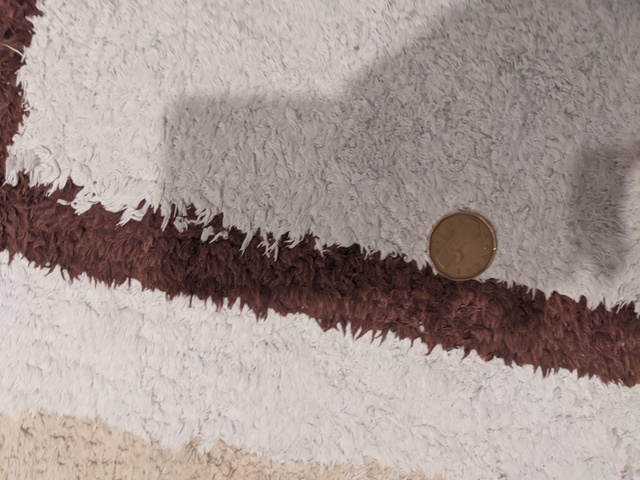loonie: (425, 200, 506, 284)
